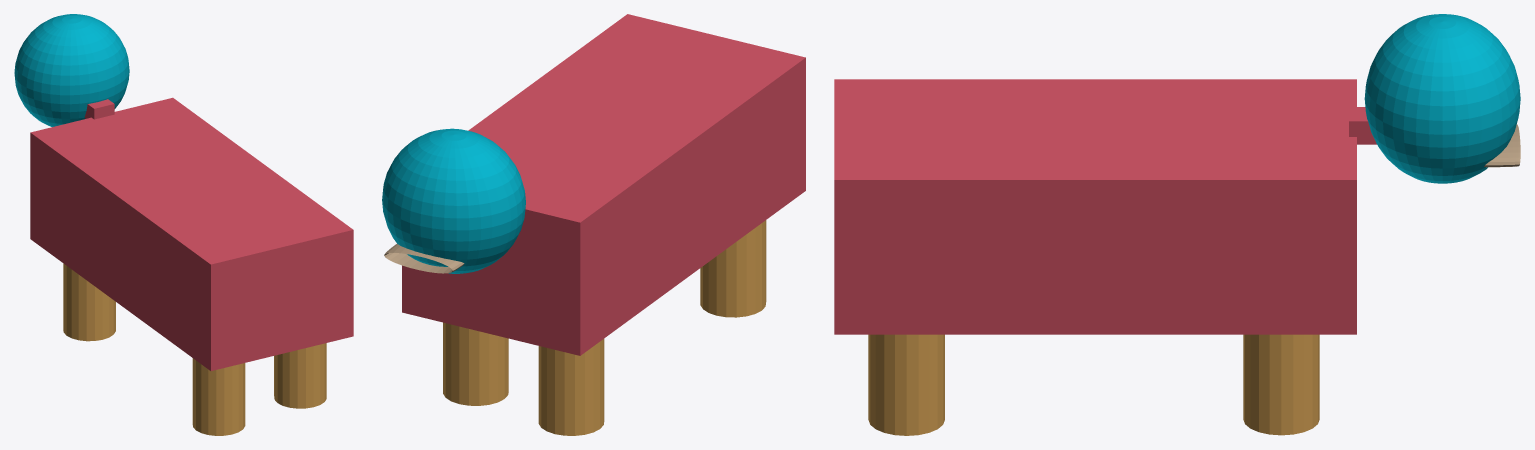
File: monster-dog blend.glb
3 renders of one model, left to right at view 1: azimuth 30°, elevation 25°; view 2: azimuth 150°, elevation 25°; view 3: azimuth 270°, elevation 25°, orthographic. The views are drawn at different scales.
Visible parts, largest first — view 1: Mesh_Mesh_head_geo.001_lambert2SG.001; view 2: Mesh_Mesh_head_geo.001_lambert2SG.001; view 3: Mesh_Mesh_head_geo.001_lambert2SG.001.
Boxes of the visible parts, left/top/right/bottom form: Mesh_Mesh_head_geo.001_lambert2SG.001: left=14, top=14, right=353, bottom=435; Mesh_Mesh_head_geo.001_lambert2SG.001: left=382, top=14, right=805, bottom=435; Mesh_Mesh_head_geo.001_lambert2SG.001: left=834, top=14, right=1520, bottom=435.
Size of the model in its own units: 28 by 49 by 80.58.
